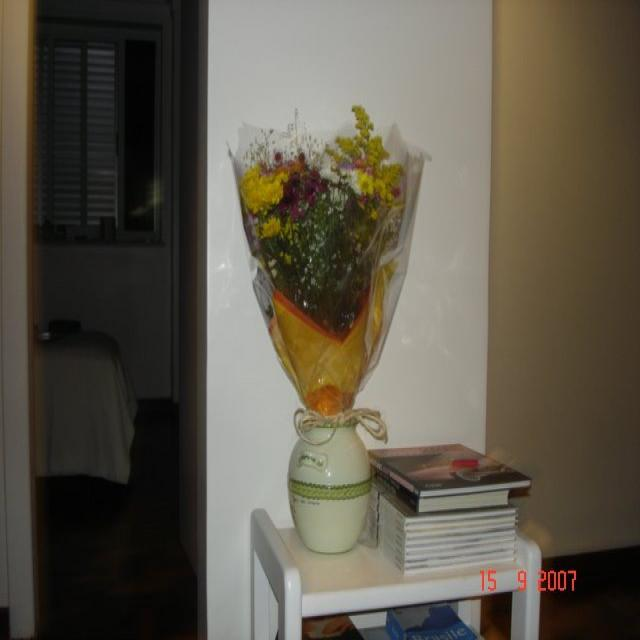2001: (37, 15, 160, 237)
bed -occluded-: (40, 335, 140, 479)
book case: (368, 441, 531, 496)
flowers in pot: (229, 107, 427, 423)
table -X: (249, 507, 541, 639)
vase -X: (286, 428, 370, 545)
wall clock: (478, 0, 639, 561)
